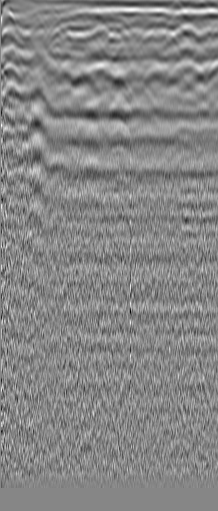오수: (25, 20, 54, 45)
우수: (169, 24, 201, 53)
